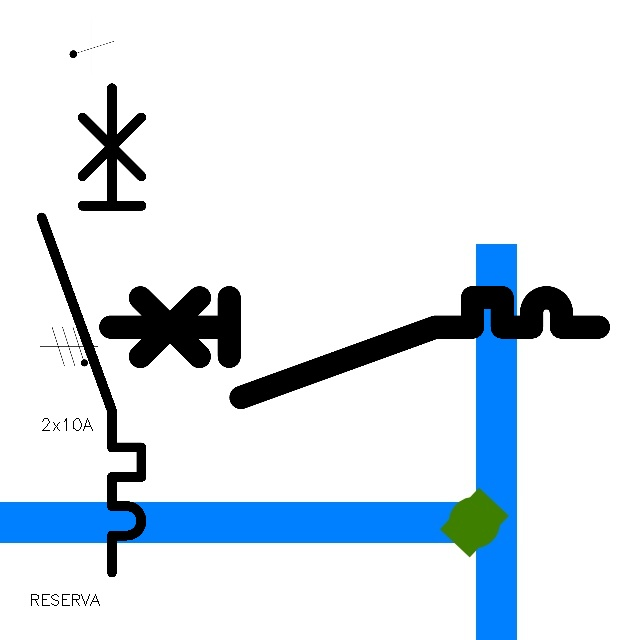interruptor_termomagnetico: (97, 285, 610, 410), (29, 75, 154, 584)
